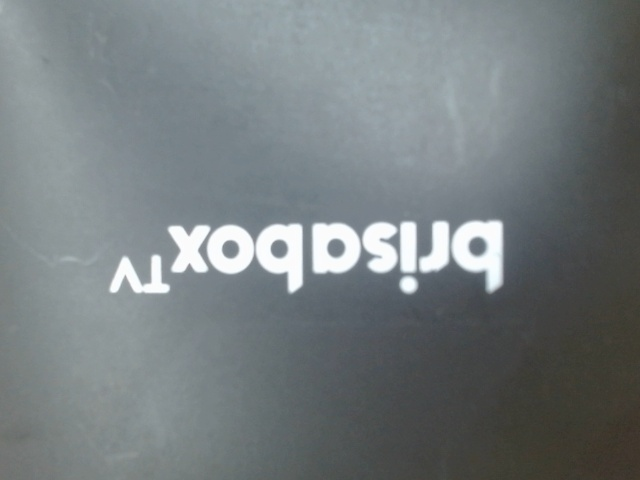AH_brisabox: (101, 210, 509, 314)
